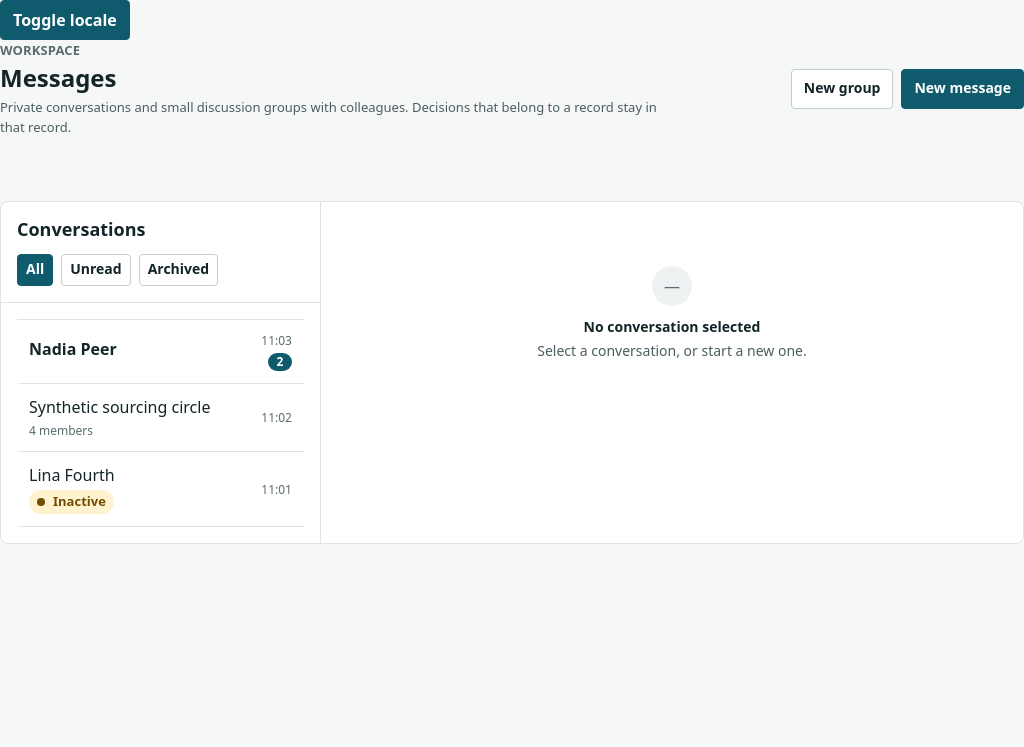
it: Messages workspace › shows history in a non-announcing log, grouped by day, with tombstones and edited markers
Click the button "Nadia Peer 11:03 2".
click(73, 349)  # box [17,320,304,384]
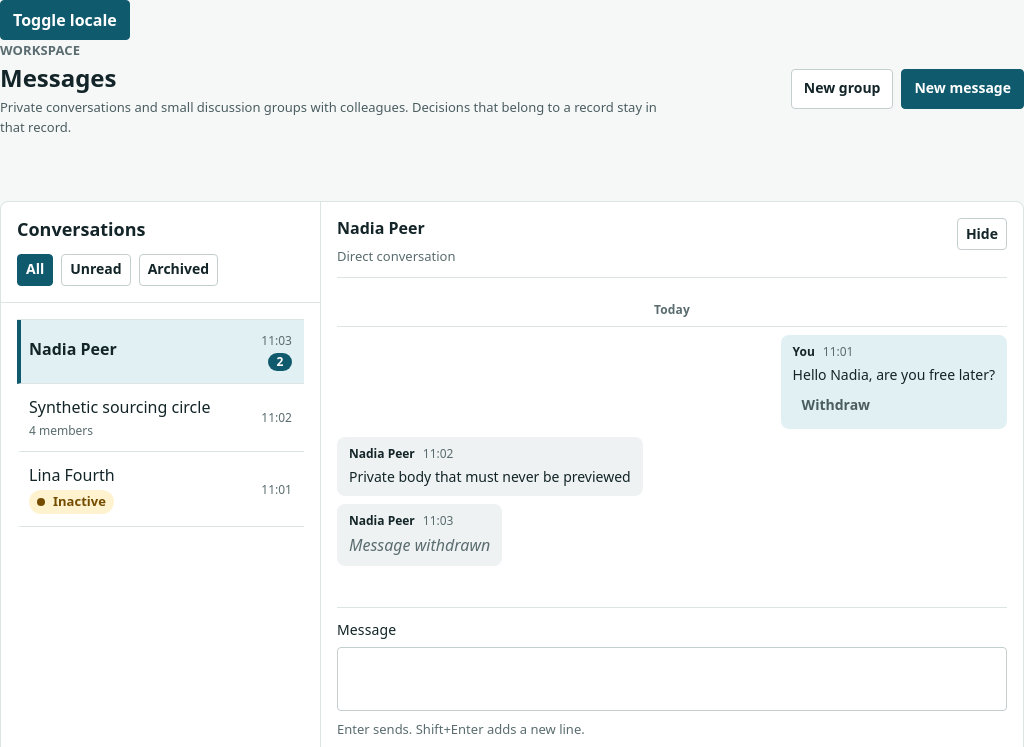
Now the heading "Today" is shown, box [337,302,1007,327]
Now the text "Message withdrawn" is shown, box [349,533,490,558]
Click the button "Synthetic sourcing circle 4 members 11:02".
click(160, 418)  # box [17,384,304,452]
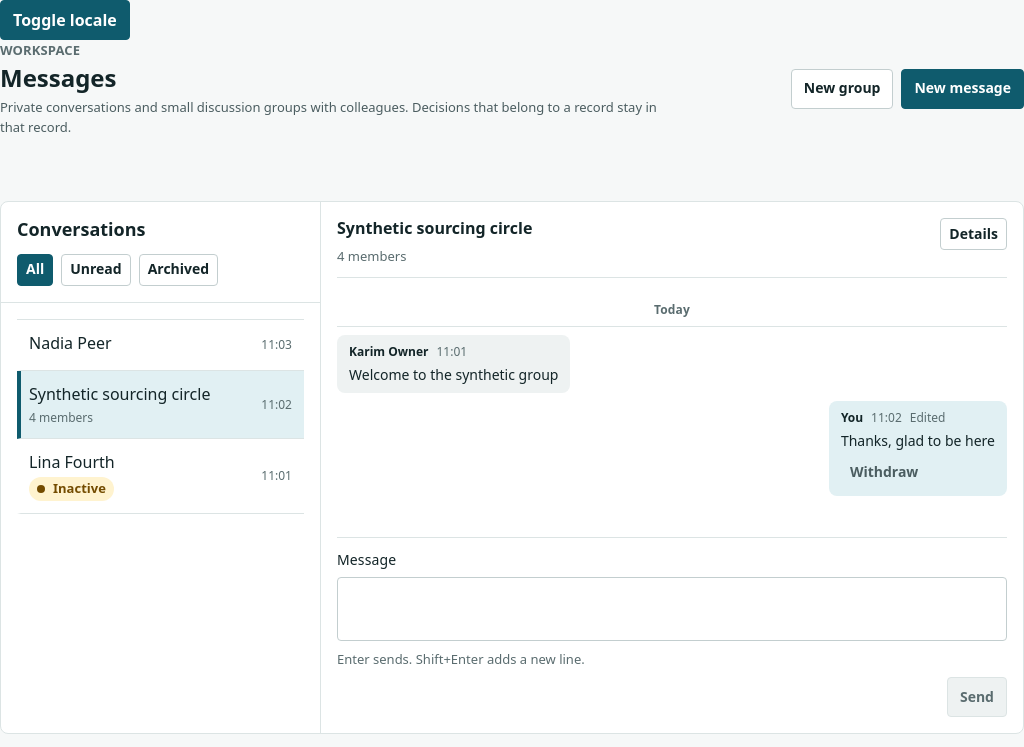
Now the text "Thanks, glad to be here" is shown, box [841,430,995,452]
Now the text "Edited" is shown, box [910,409,945,426]
